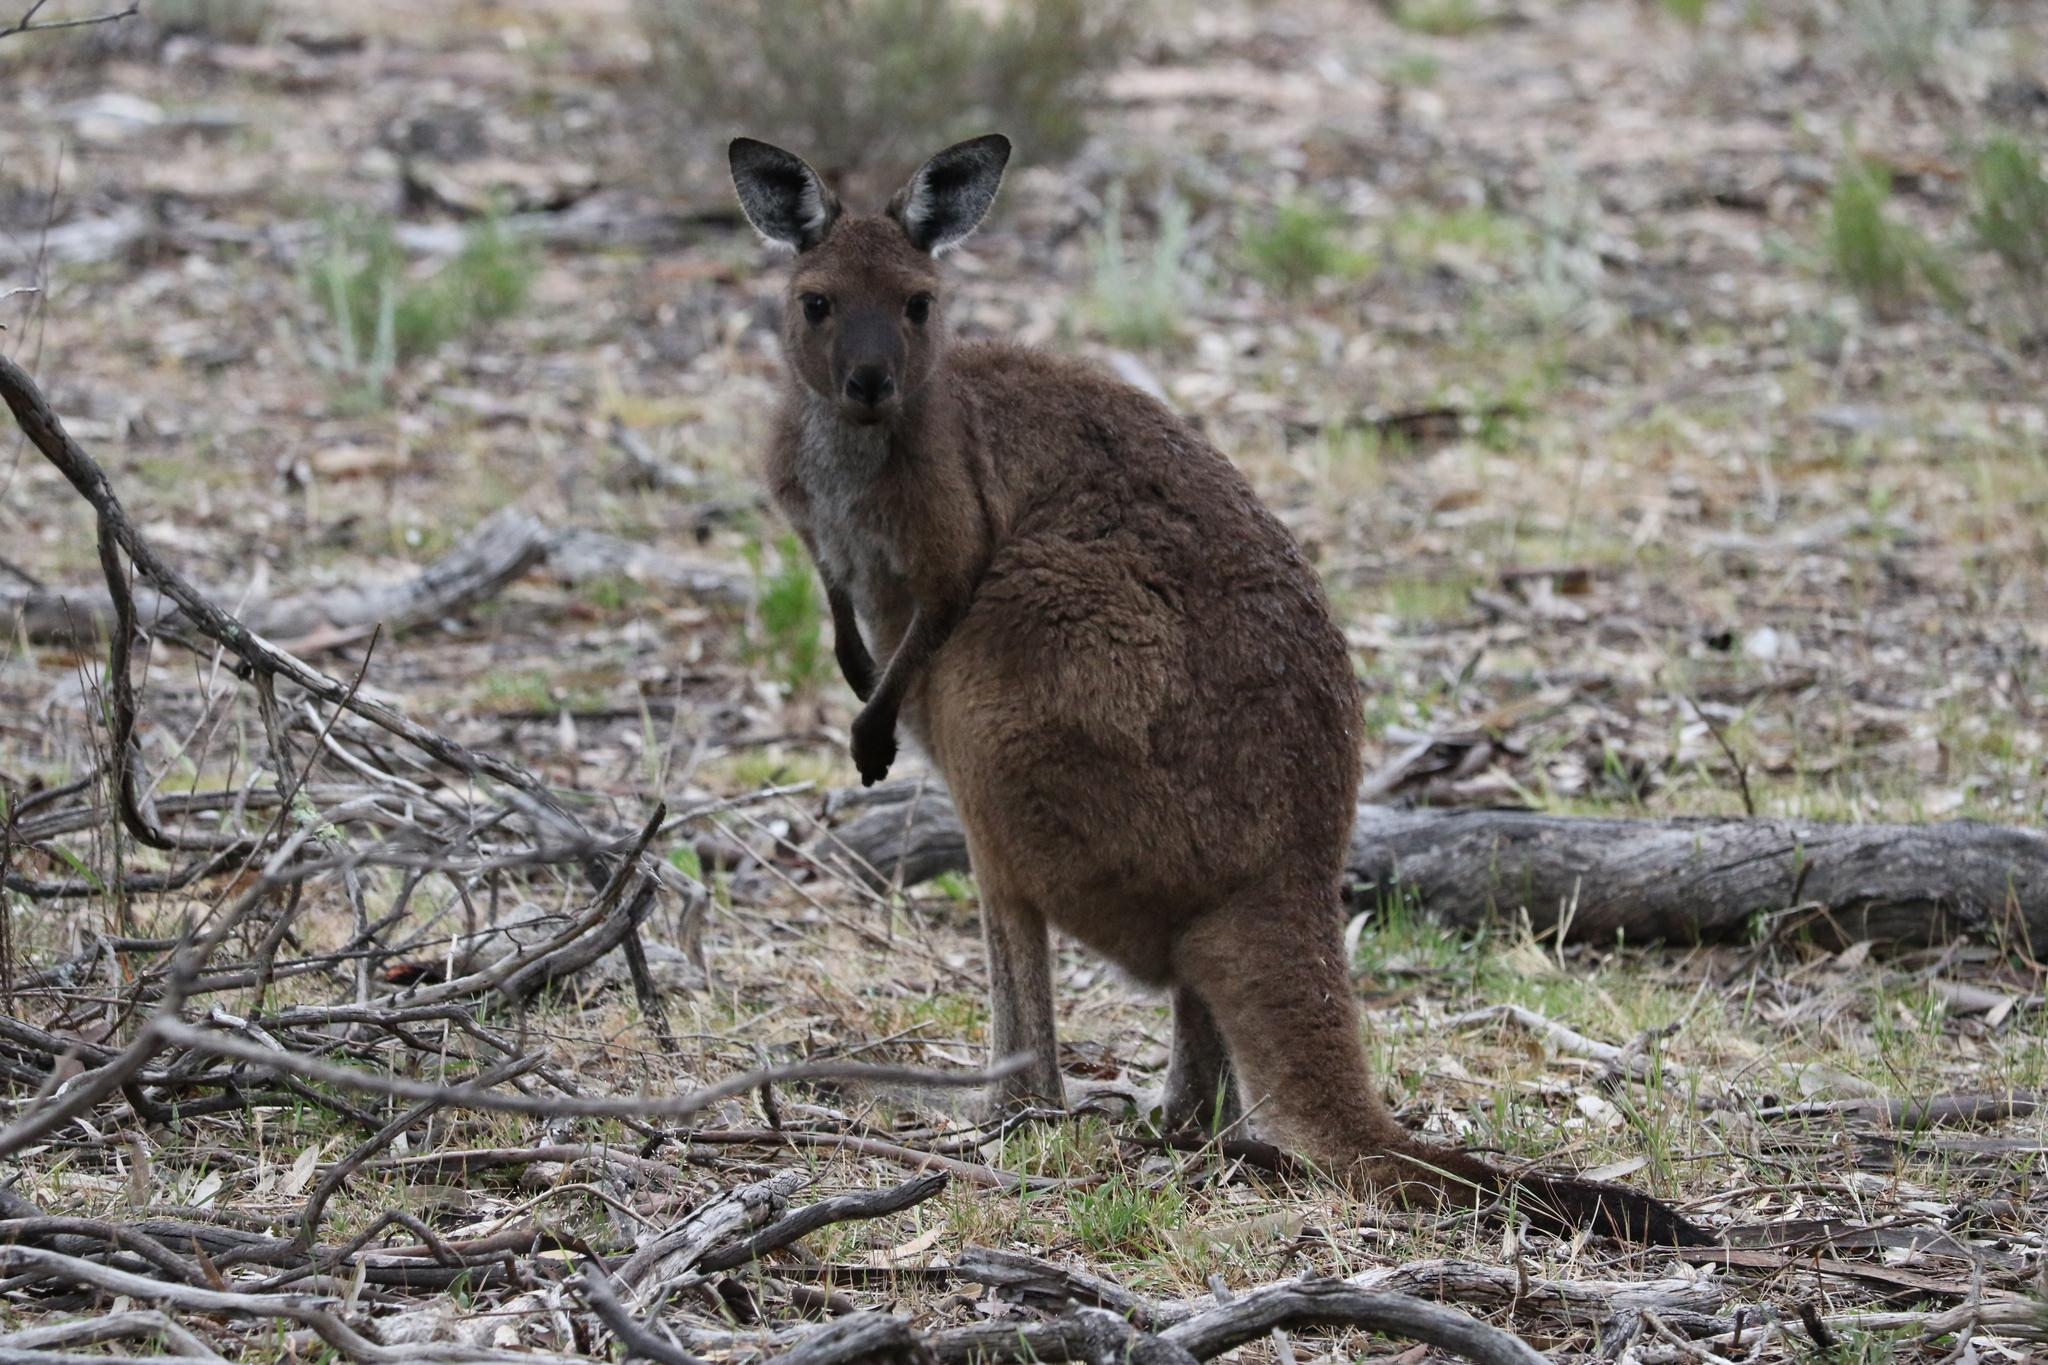Western grey kangaroo: (720, 128, 1731, 1260)
